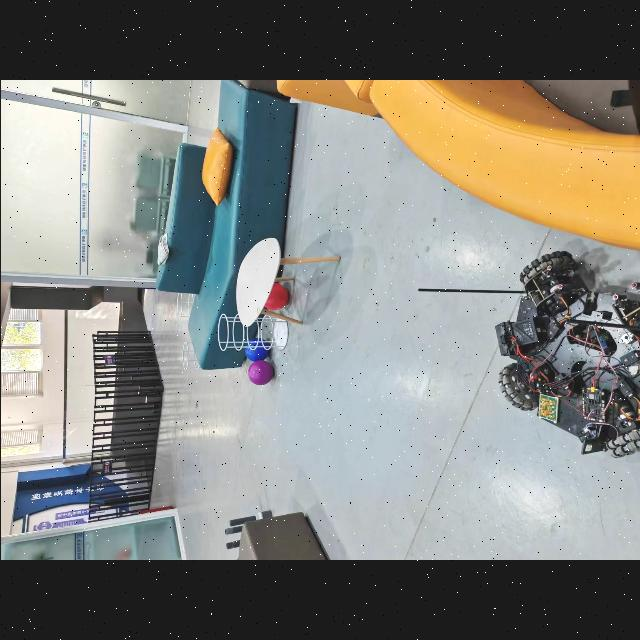B: (243, 338, 269, 362)
P: (247, 361, 273, 385)
R: (263, 283, 288, 311)
S: (217, 313, 287, 351)
